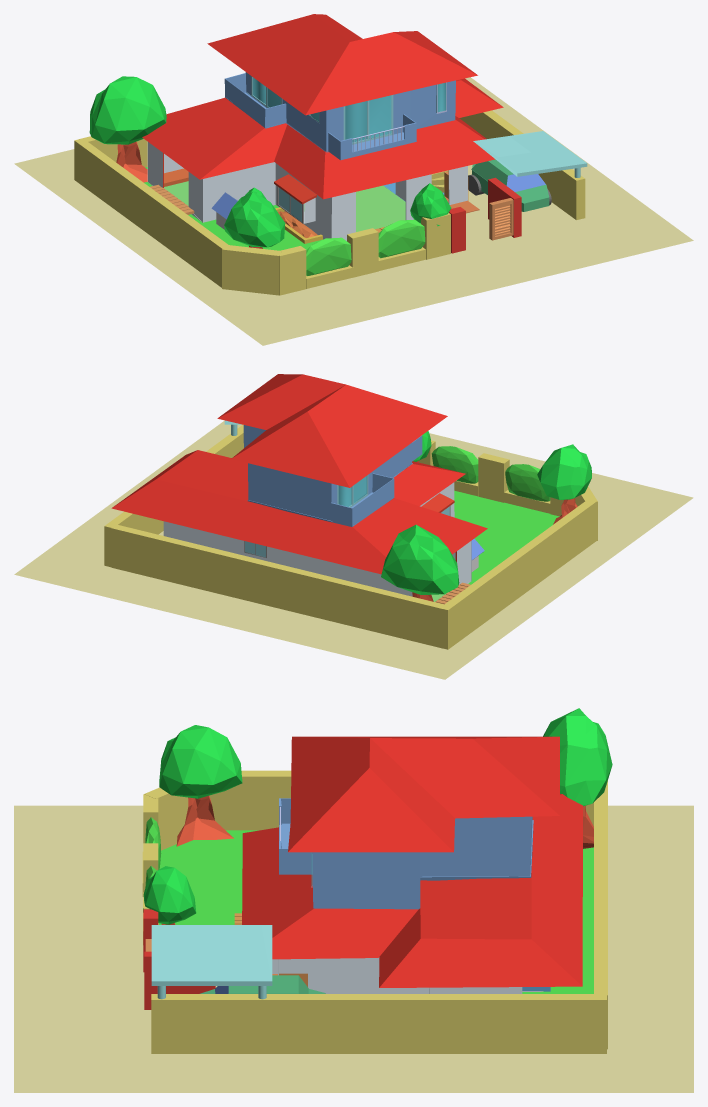
File: house.fbx
3 renders of one model, top to bottom at view 1: azimuth 30°, elevation 25°; view 2: azimuth 150°, elevation 25°; view 3: azimuth 270°, elevation 25°, orthographic. The views are drawn at different scales.
Parts seen in each view (by area): view 1: ground, wall.005, 1yy, 2yy, 1f.008, 2f, tree, carcar, wall.012, car, wall.008, dooor; view 2: ground, wall.005, 1yy, 2yy, 2f, tree, 1f.008, wall.012; view 3: ground, wall.005, 1yy, 2yy, 2f, tree, carcar, 1f.008, wall.008, car.
Boxes of the visible parts, box(x1,y1,x2,y2) form: ground: box(14, 77, 693, 345); wall.005: box(74, 110, 585, 295); 1yy: box(142, 78, 503, 199); 2yy: box(207, 14, 477, 115); 1f.008: box(147, 142, 479, 240); 2f: box(224, 72, 455, 160); tree: box(89, 76, 451, 248); carcar: box(473, 131, 587, 177); wall.012: box(306, 219, 425, 275); car: box(468, 159, 551, 211); wall.008: box(449, 177, 521, 253); dooor: box(489, 198, 513, 240); ground: box(14, 420, 693, 679); wall.005: box(104, 424, 597, 649); 1yy: box(111, 450, 487, 574); 2yy: box(217, 374, 447, 487); 2f: box(243, 425, 422, 526); tree: box(381, 431, 591, 601); 1f.008: box(163, 482, 471, 601); wall.012: box(431, 446, 550, 501); ground: box(14, 805, 693, 1092); wall.005: box(142, 770, 607, 1053); 1yy: box(242, 793, 582, 987); 2yy: box(288, 736, 559, 852); 2f: box(279, 798, 533, 909); tree: box(143, 708, 612, 924); carcar: box(151, 925, 272, 999); 1f.008: box(272, 957, 550, 993); wall.008: box(143, 909, 215, 1009); car: box(200, 975, 325, 993).
Size of the model in its own units: 1790 by 630 by 1790.
